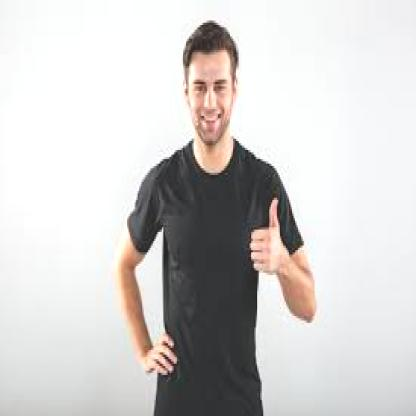Thumbs up: (252, 197, 278, 274)
